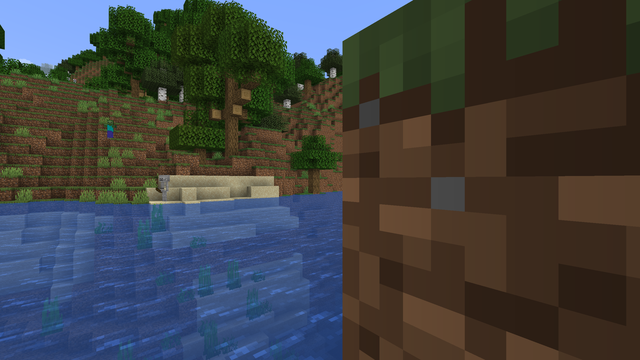squelettes: (159, 175, 169, 201)
zombies: (106, 119, 113, 138)
